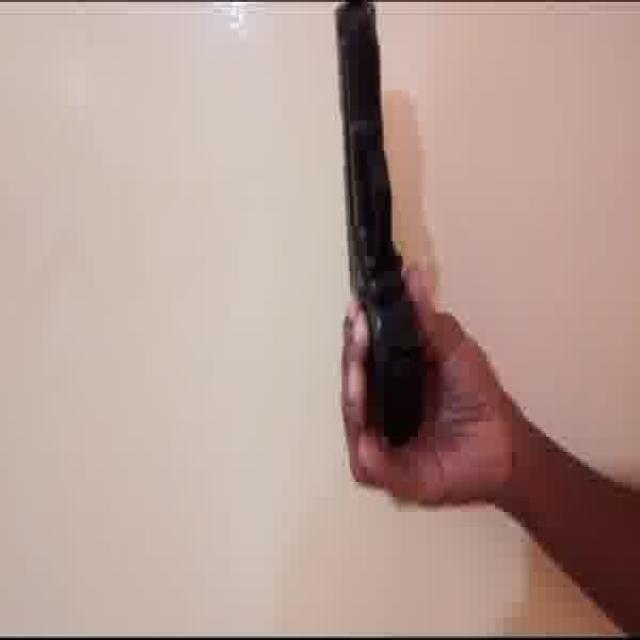weapon: (333, 0, 428, 446)
